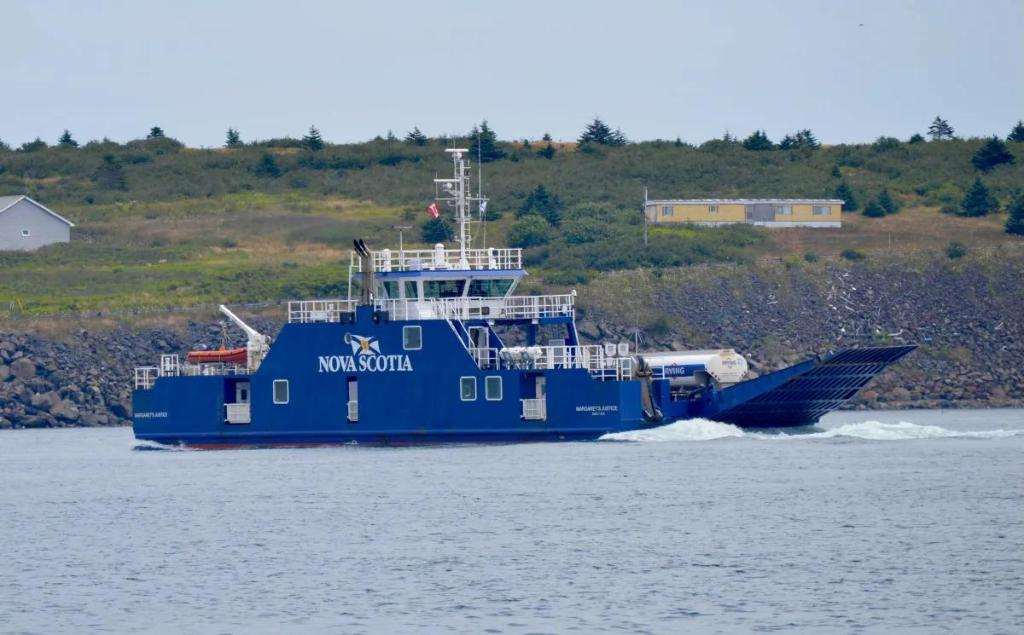PassengerShip: (122, 152, 924, 460)
